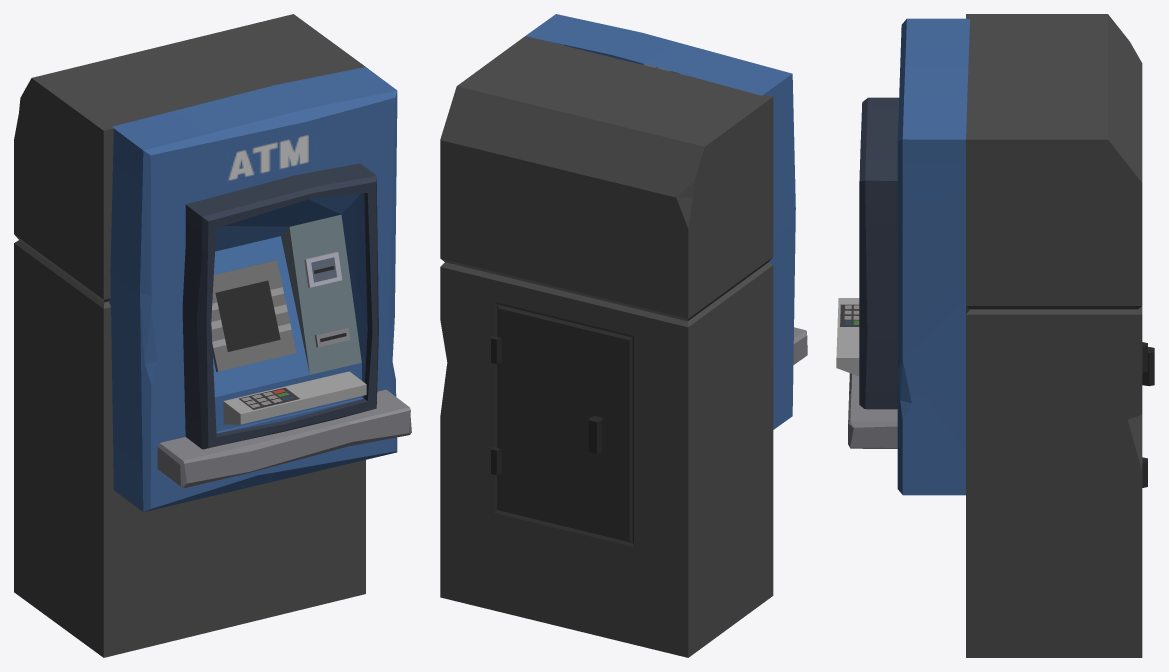
Rendered from ATM.fbx.
3 renders of one model, left to right at view 1: azimuth 30°, elevation 25°; view 2: azimuth 150°, elevation 25°; view 3: azimuth 270°, elevation 25°, orthographic. The views are drawn at different scales.
Visible parts, largest first — view 1: ATM; view 2: ATM; view 3: ATM.
Boxes of the visible parts, bbox=[...] form: ATM: bbox=[14, 14, 411, 657]; ATM: bbox=[440, 14, 807, 657]; ATM: bbox=[836, 14, 1154, 657].
Bounding box in the file's own units: 57.75 × 112 × 61.73.
